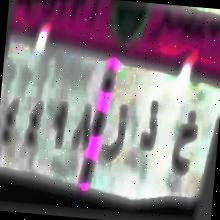4: (22, 100, 45, 159), (0, 96, 22, 153)
8: (71, 101, 94, 155)
9: (50, 97, 70, 154)
khaa: (167, 104, 200, 190)
zaal: (136, 100, 161, 154)
zay: (102, 104, 130, 170)
